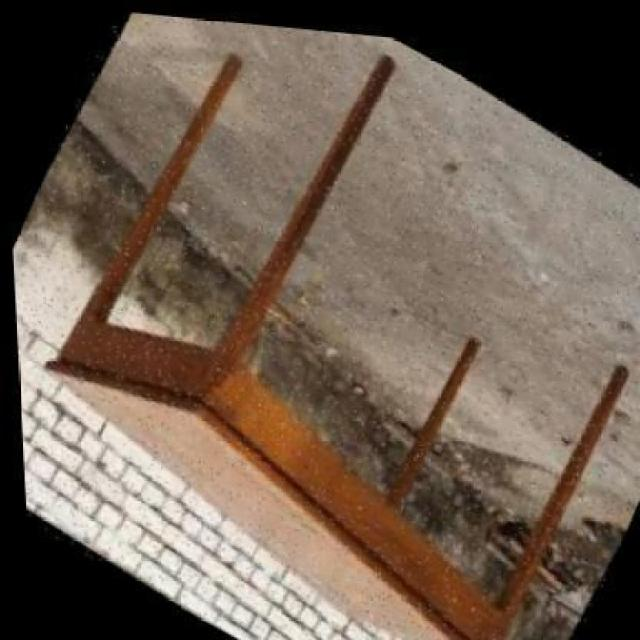tables: (7, 7, 638, 638)
